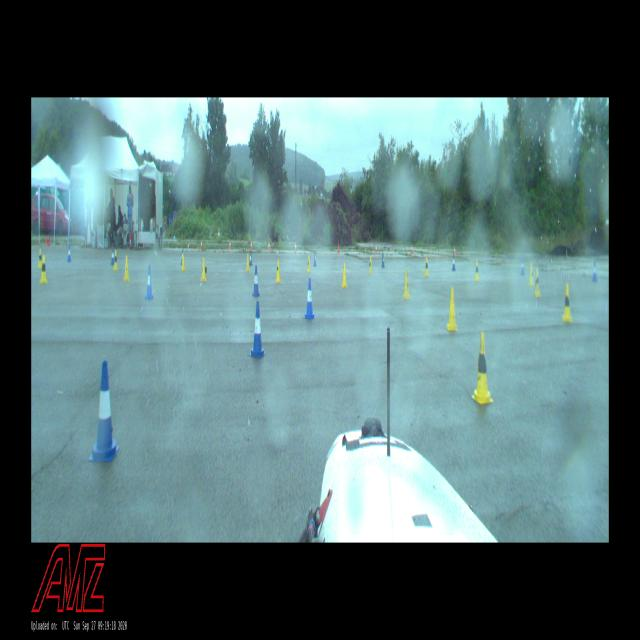blue_cone: (88, 360, 120, 464), (249, 301, 266, 358), (304, 278, 315, 319), (145, 265, 154, 300), (252, 265, 260, 297), (591, 260, 598, 282), (66, 244, 72, 262), (520, 258, 524, 276), (180, 248, 184, 266), (111, 248, 115, 265), (452, 255, 456, 271), (313, 250, 317, 266), (248, 252, 252, 266), (382, 252, 385, 268)
orange_cone: (337, 242, 340, 254), (250, 241, 253, 251), (453, 245, 456, 254), (411, 243, 413, 254), (375, 243, 377, 254), (294, 242, 296, 252), (200, 240, 202, 250), (229, 240, 231, 250), (268, 242, 270, 250)
yellow_cone: (471, 331, 494, 406), (446, 286, 459, 332), (562, 282, 573, 322), (40, 256, 48, 284), (403, 269, 410, 299), (534, 268, 541, 296), (341, 262, 348, 288), (123, 256, 130, 281), (201, 257, 207, 282), (276, 260, 282, 282), (528, 263, 534, 285), (37, 248, 43, 268), (181, 252, 186, 272), (368, 256, 373, 273), (475, 260, 479, 281), (114, 250, 118, 270), (424, 257, 428, 276), (246, 254, 250, 272), (307, 255, 311, 272)
